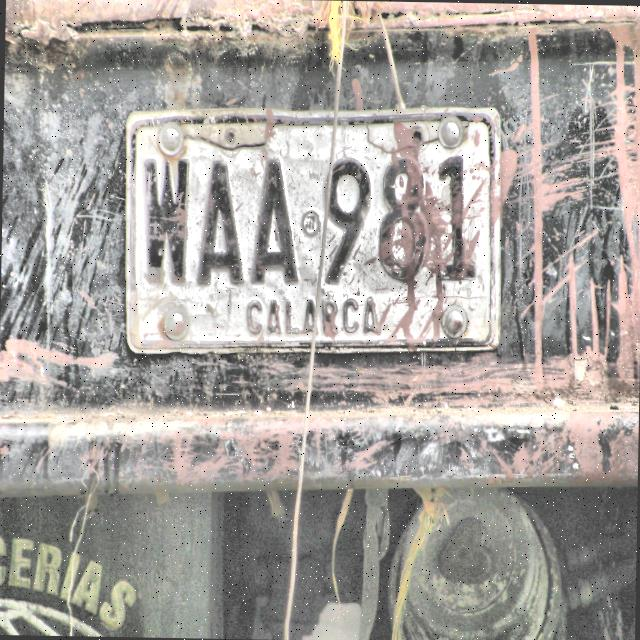1: (436, 156, 484, 280)
8: (374, 154, 434, 284)
9: (316, 152, 371, 282)
A: (248, 158, 304, 284), (194, 157, 246, 287)
W: (136, 154, 194, 290)
